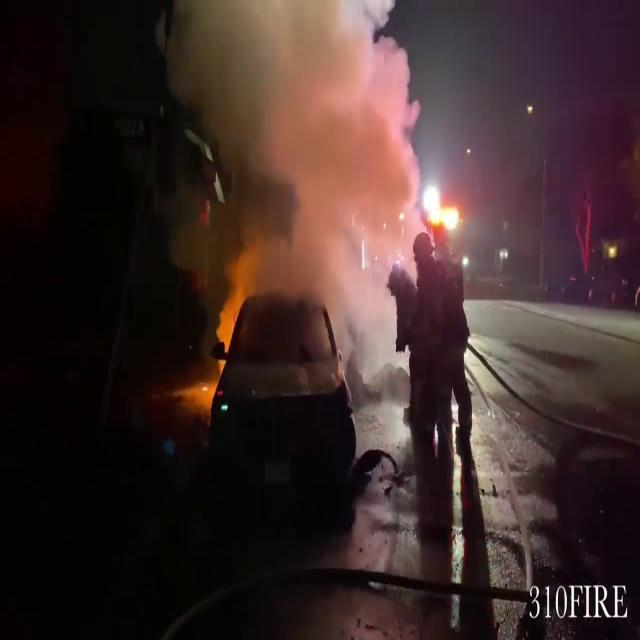Fire: (421, 180, 462, 240)
Smoke: (162, 1, 421, 306)
